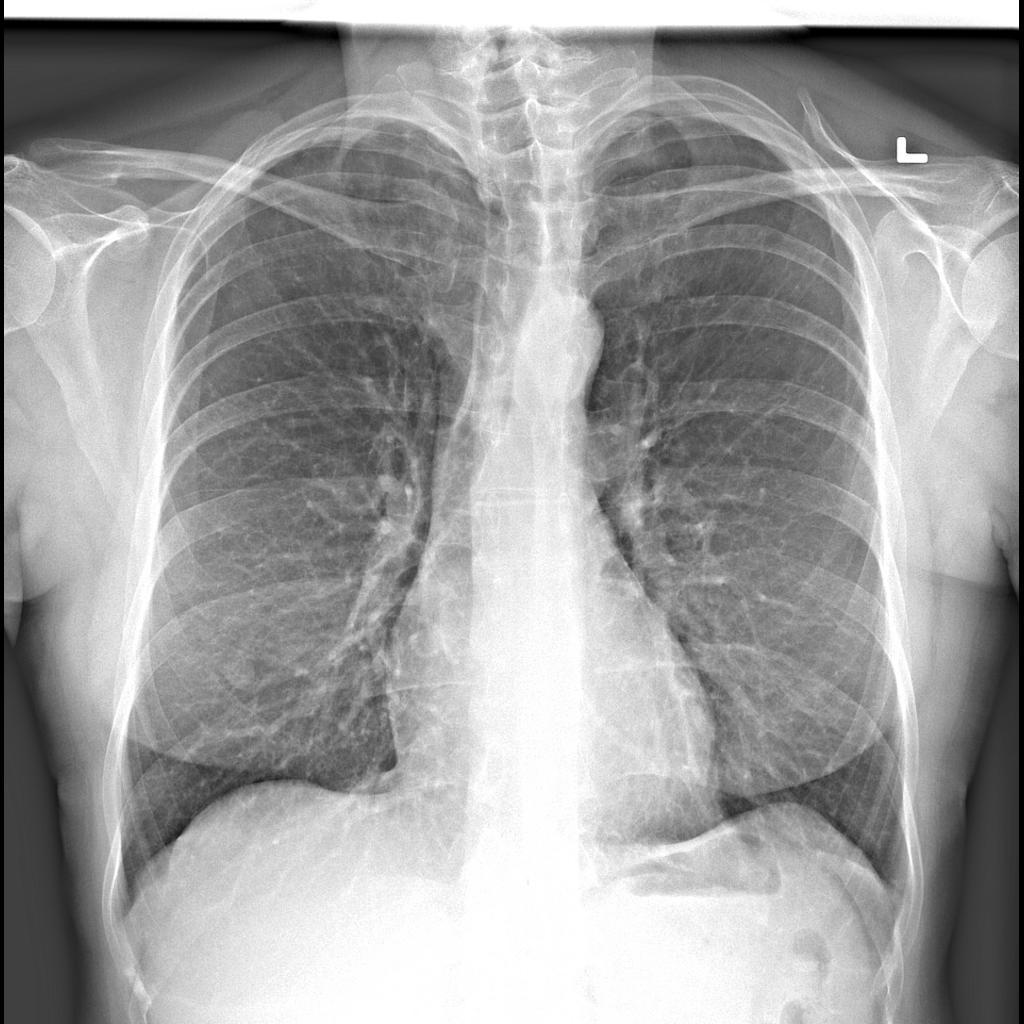Nodule: (215, 645, 258, 693)
